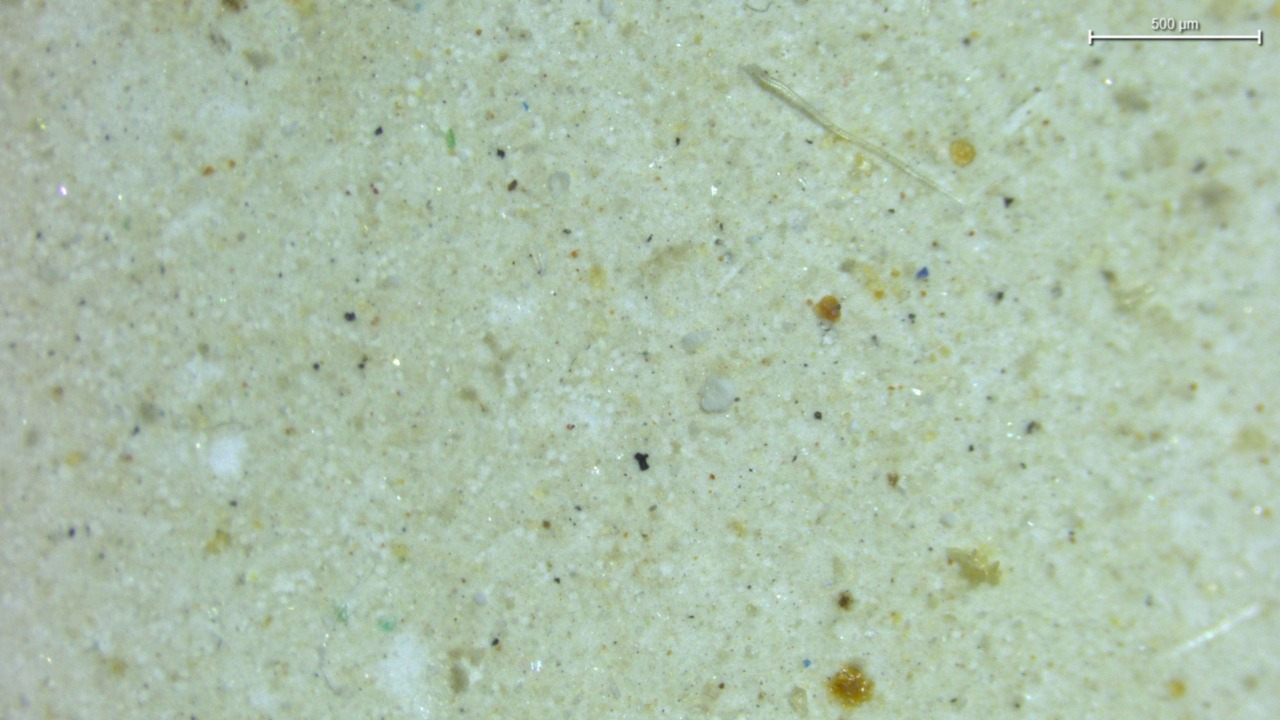microplastic_fragment: (700, 376, 735, 412)
